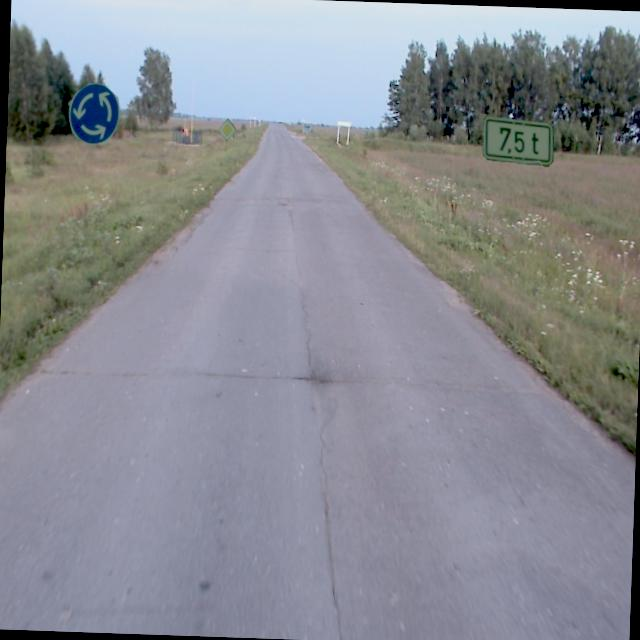road: (0, 122, 635, 640)
